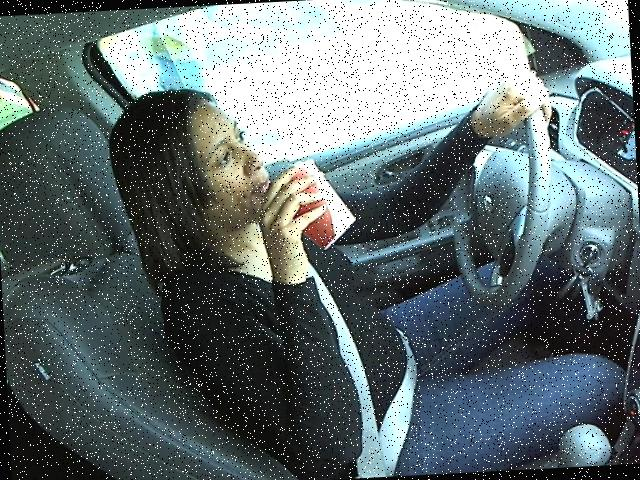c4 - Drinking: (96, 52, 576, 479)
